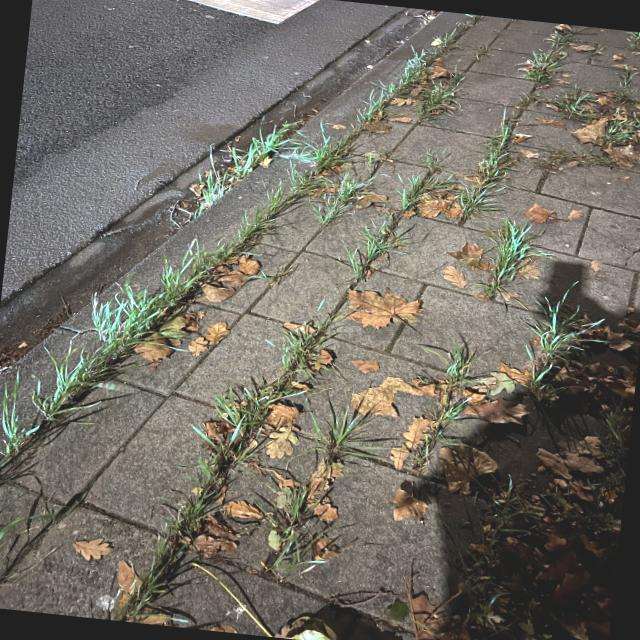pavement: (0, 0, 419, 393), (0, 204, 370, 614)
weed: (0, 27, 453, 451)
